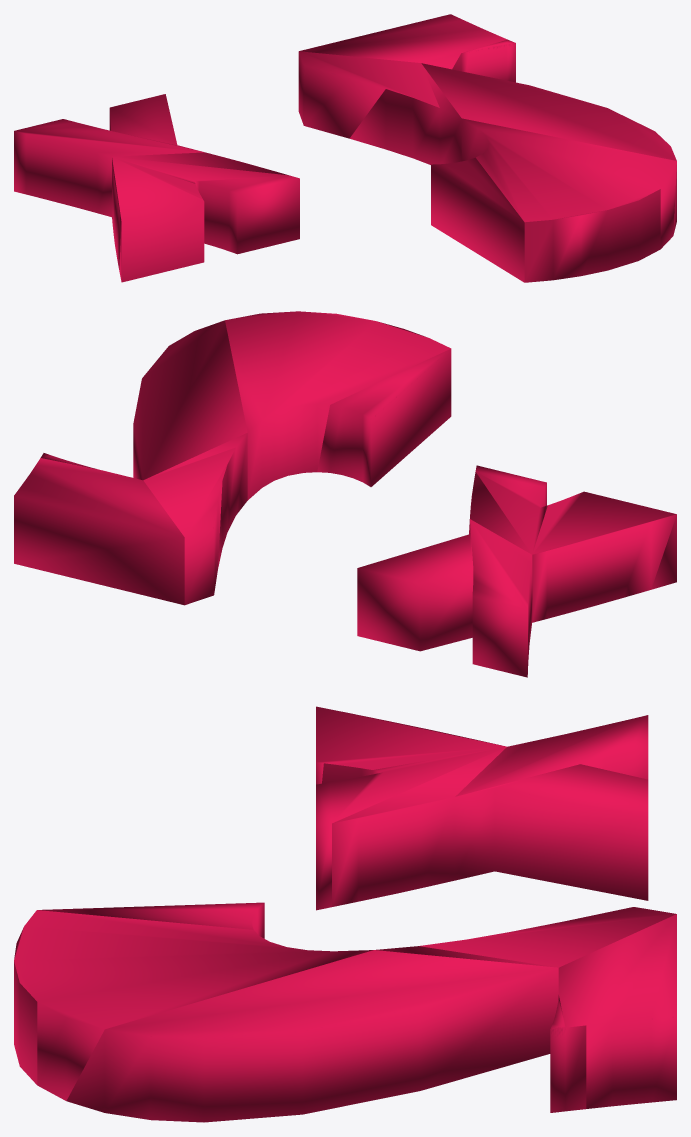
The model's file is scoretimes2.fbx.
3 views of the same model, one above another, from view 1: azimuth 30°, elevation 25°; view 2: azimuth 150°, elevation 25°; view 3: azimuth 270°, elevation 25° (orthographic). The views are drawn at different scales.
Visible parts, largest first — view 1: node_2594839815_5_mesh0, node_2594839815_3_mesh0; view 2: node_2594839815_5_mesh0, node_2594839815_3_mesh0; view 3: node_2594839815_5_mesh0, node_2594839815_3_mesh0.
Boxes of the visible parts, bbox=[...] form: node_2594839815_5_mesh0: bbox=[298, 14, 676, 282]; node_2594839815_3_mesh0: bbox=[14, 94, 299, 282]; node_2594839815_5_mesh0: bbox=[14, 311, 451, 605]; node_2594839815_3_mesh0: bbox=[357, 465, 676, 677]; node_2594839815_5_mesh0: bbox=[14, 902, 676, 1122]; node_2594839815_3_mesh0: bbox=[316, 706, 648, 910].
Size of the model in its own units: 33.84 by 3.97 by 28.53.
2 materials, 2 textured.
